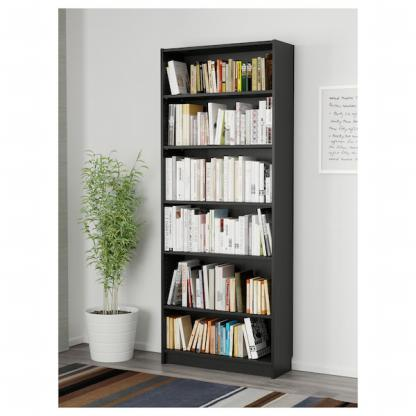lamp: (159, 39, 295, 380)
